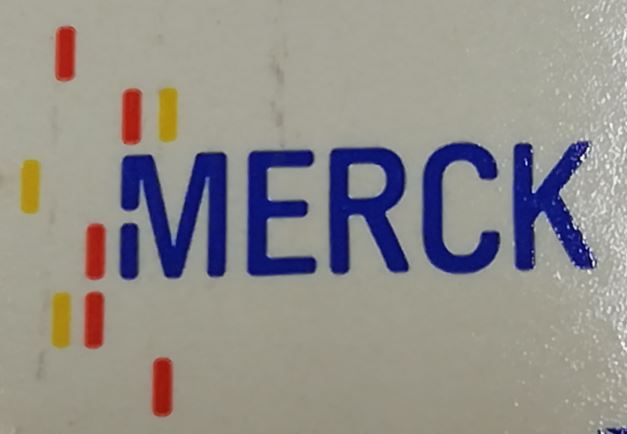Merck: (15, 22, 603, 419)
